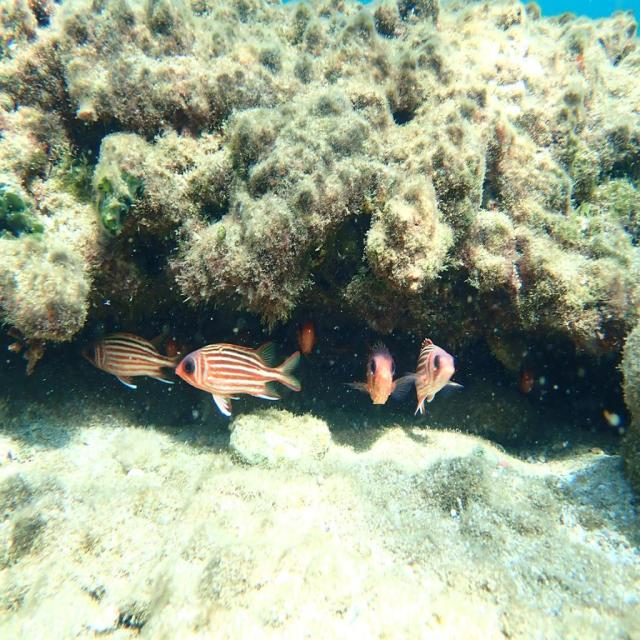Asker Baligi: (168, 319, 314, 422), (399, 328, 468, 419), (356, 328, 406, 422)
